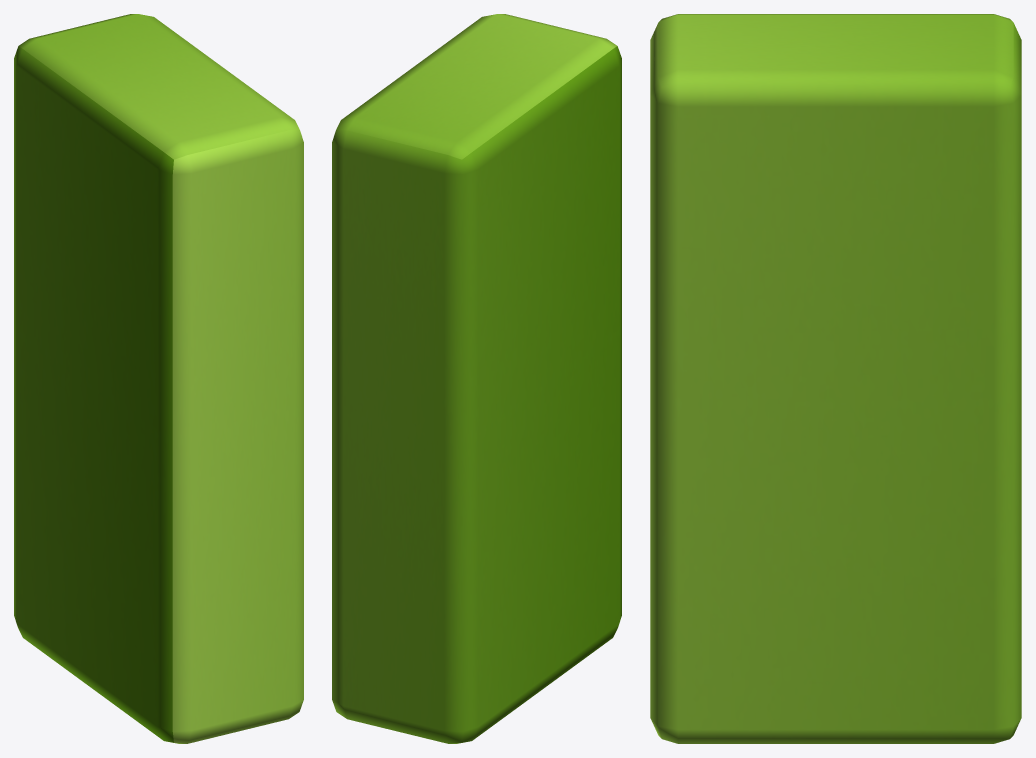
The model's file is BlockWallGreen.fbx.
3 renders of one model, left to right at view 1: azimuth 30°, elevation 25°; view 2: azimuth 150°, elevation 25°; view 3: azimuth 270°, elevation 25°, orthographic. The views are drawn at different scales.
Parts seen in each view (by area): view 1: Cube.011; view 2: Cube.011; view 3: Cube.011.
Part boxes in pixels (<box>): Cube.011: <box>14,14,303,743</box>; Cube.011: <box>332,14,621,743</box>; Cube.011: <box>650,14,1021,743</box>.
Bounding box in the file's own units: 100 × 400 × 200.
